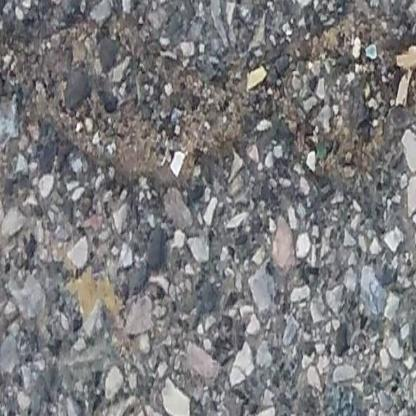Cracks: (0, 0, 416, 196)
